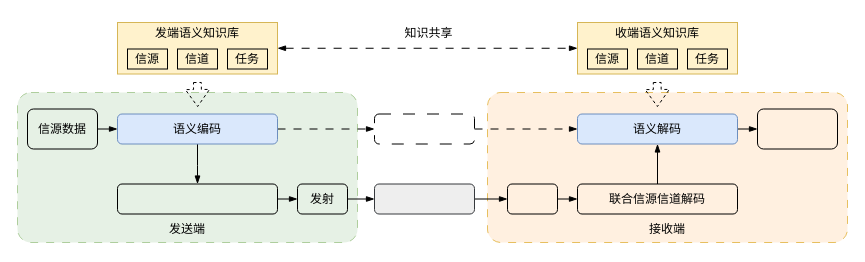
The diagram is 865 pixels wide and 262 high, and some of its shapes have lost their labels. The shapes that lost their labels are listed below. From the top down, each one's box as (x1, y1, x2, y2) in pixels, then its label:
(374, 113, 474, 144): 语义信道
(756, 108, 838, 149): 恢复数据 智能任务
(116, 183, 278, 214): 联合信源信道编码
(374, 183, 474, 214): 物理信道
(506, 183, 558, 214): 接收
